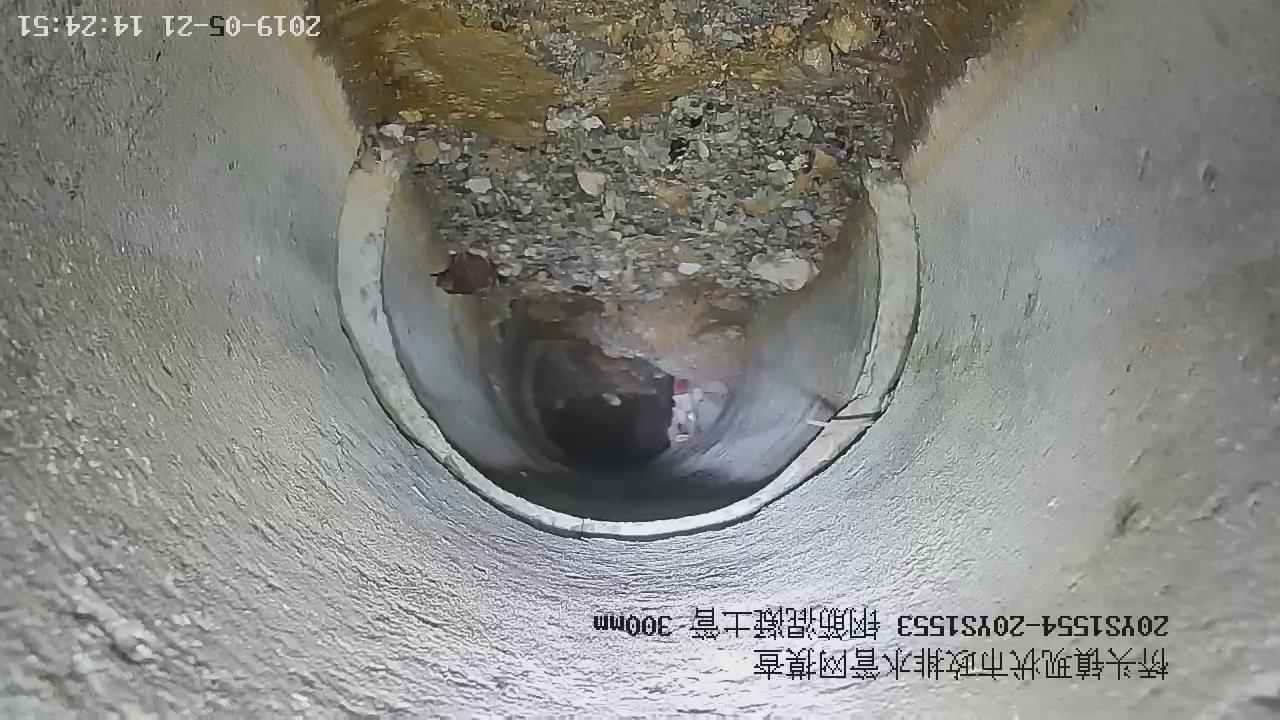CJ: (322, 1, 918, 404)
CKTJ: (337, 160, 921, 539)
